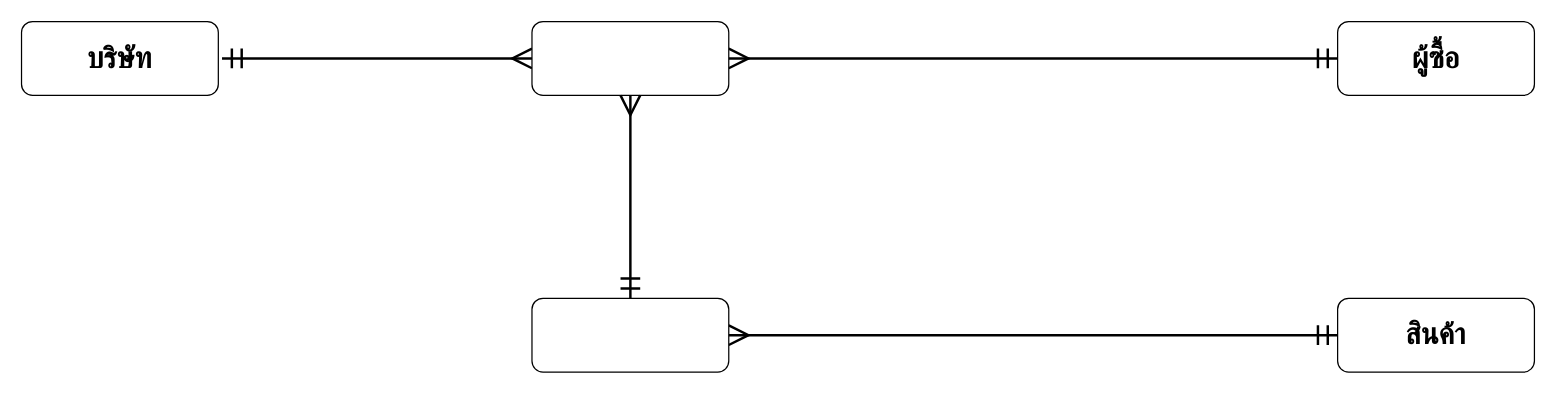
Image size: 1556x412. Some labels were removed from this diagram. The centre of each missing label's shape, as x and y in pixels:
การซื้อสินค้า: (x=630, y=57)
รายละเอียดการซื้อสินค้า: (x=630, y=334)
